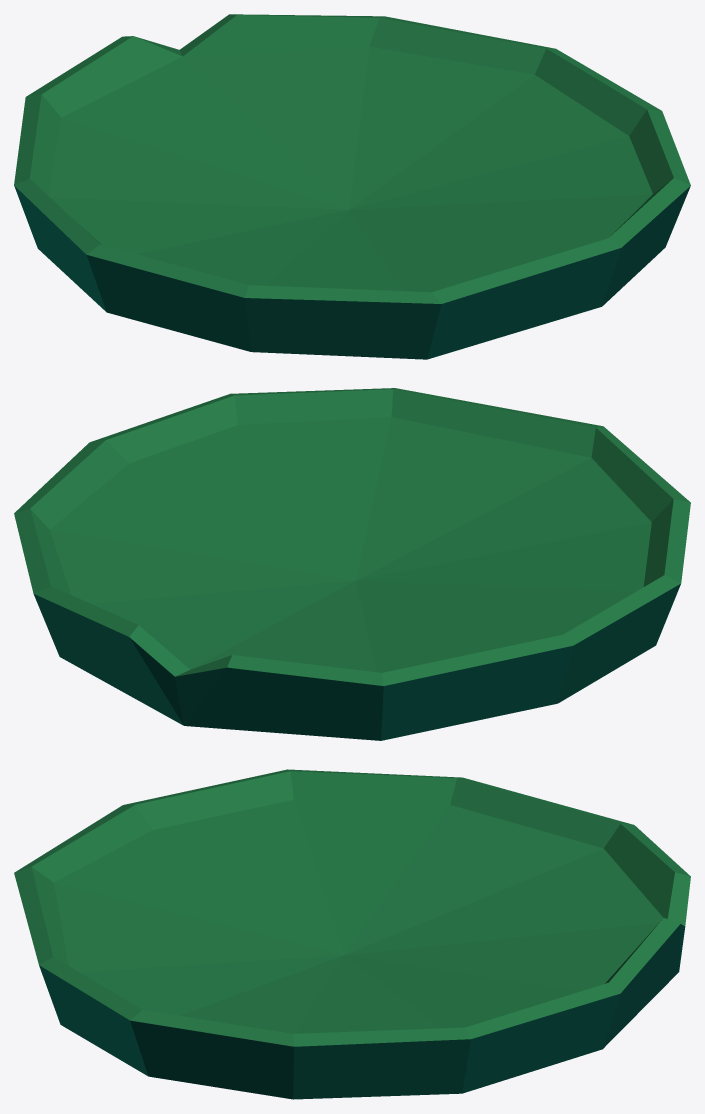
The model's file is SM_Env_Lillypad_Large_01-optimized.glb.
3 views of the same model, one above another, from view 1: azimuth 30°, elevation 25°; view 2: azimuth 150°, elevation 25°; view 3: azimuth 270°, elevation 25° (orthographic). The views are drawn at different scales.
Visible parts, largest first — view 1: SM_Env_Lillypad_Large_01; view 2: SM_Env_Lillypad_Large_01; view 3: SM_Env_Lillypad_Large_01.
Part boxes in pixels (x1,y1,x2,y2): SM_Env_Lillypad_Large_01: (14, 14, 690, 359); SM_Env_Lillypad_Large_01: (14, 388, 690, 740); SM_Env_Lillypad_Large_01: (14, 769, 690, 1099).
Bounding box in the file's own units: 0.7471 × 0.0996 × 0.7707.
1 material, 1 textured.
